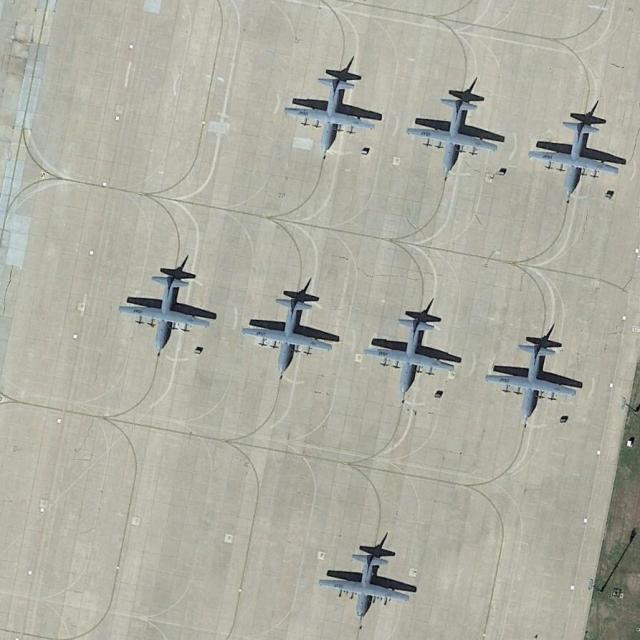fighter jet: (485, 328, 580, 433), (283, 58, 378, 155), (238, 285, 337, 378), (317, 542, 419, 622), (122, 271, 210, 352), (524, 119, 622, 190), (376, 314, 457, 398), (410, 97, 496, 173)
